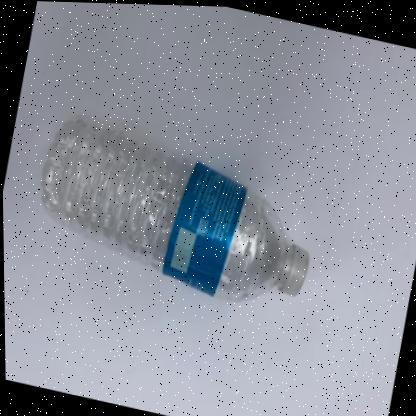Plastic: (37, 109, 308, 300)
